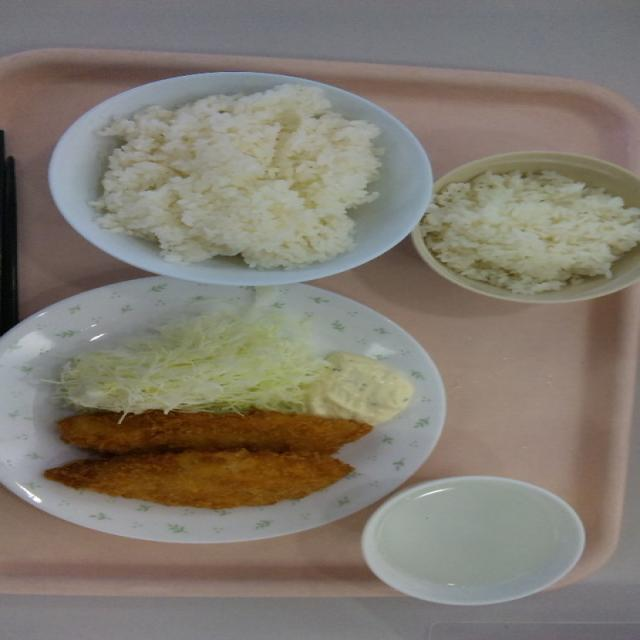Rice: (108, 80, 386, 271)
